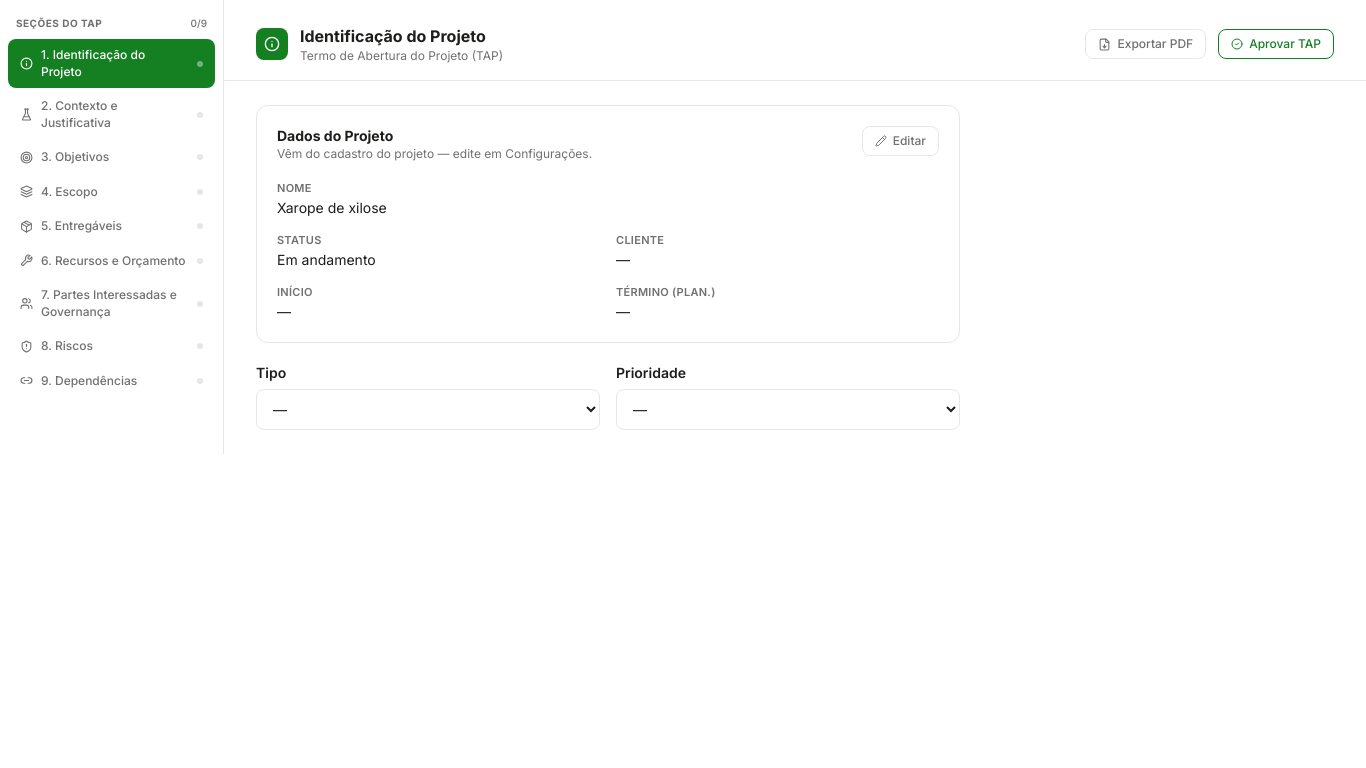
it: CharterClient — equipe do TAP › should offer every active user, not only those with project access
Click the button "6. Recursos e Orçamento".
click(112, 261)  # box [8,244,215,277]
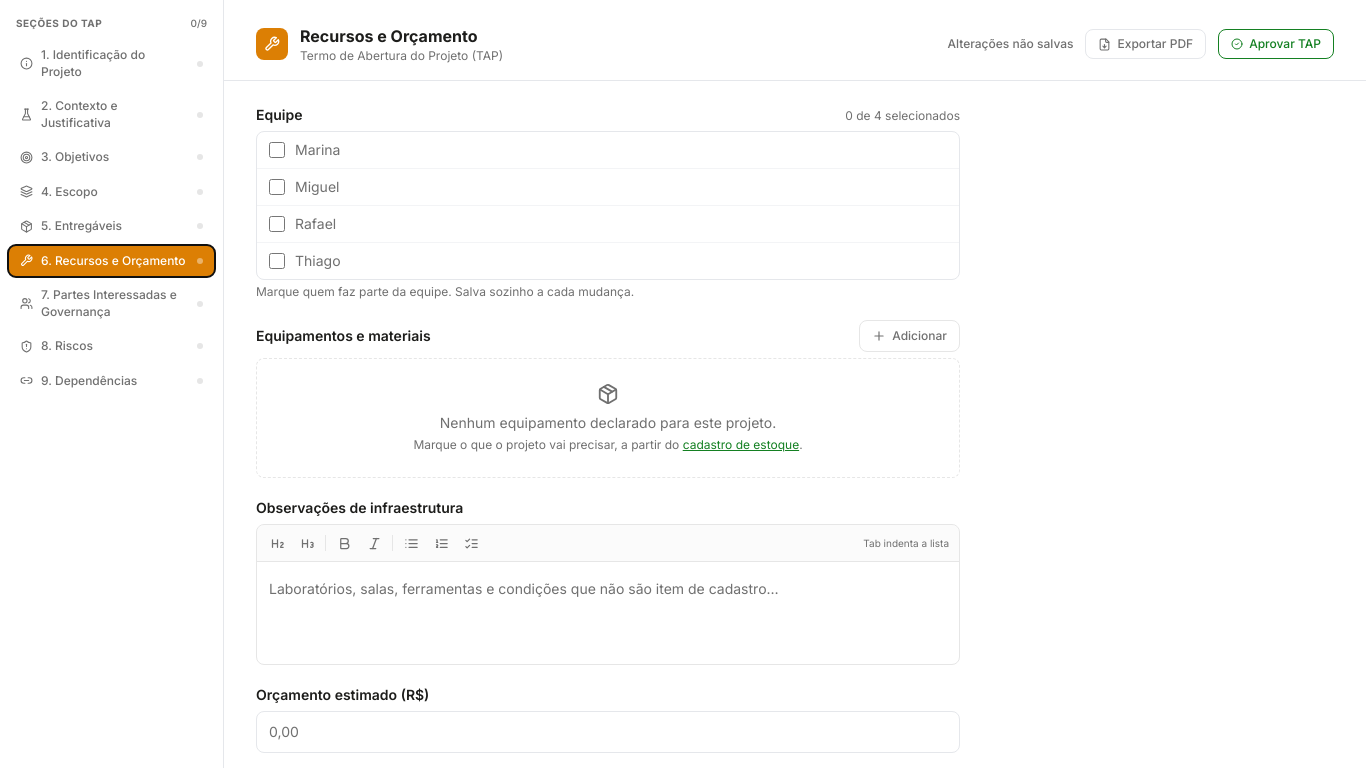
Now the checkbox labelled "Rafael" is shown, box [269,216,285,232]
Now the checkbox labelled "Thiago" is shown, box [269,253,285,269]
Now the checkbox labelled "Marina" is shown, box [269,142,285,158]
